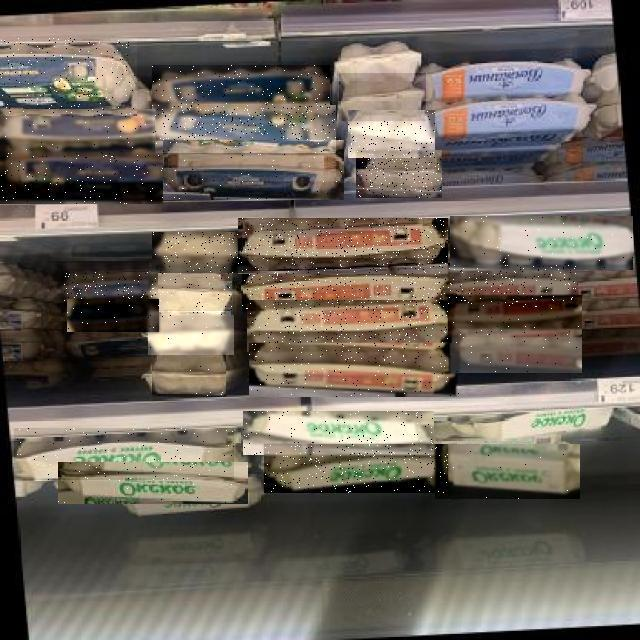Eggs: (238, 218, 448, 274), (15, 428, 235, 480), (250, 343, 460, 397), (242, 258, 450, 311), (161, 140, 344, 200), (247, 300, 455, 352), (0, 38, 137, 116), (0, 141, 163, 204), (450, 216, 633, 270), (152, 66, 330, 118), (264, 444, 448, 493), (153, 105, 336, 153), (243, 411, 434, 455), (58, 462, 248, 504), (435, 444, 580, 499), (0, 110, 155, 156), (453, 329, 583, 373), (449, 295, 583, 337), (444, 265, 578, 307), (348, 111, 435, 159), (339, 73, 426, 121), (356, 151, 442, 199), (149, 311, 235, 355), (150, 271, 236, 315), (152, 232, 242, 273), (152, 352, 226, 397), (67, 299, 159, 332), (62, 272, 158, 302)
